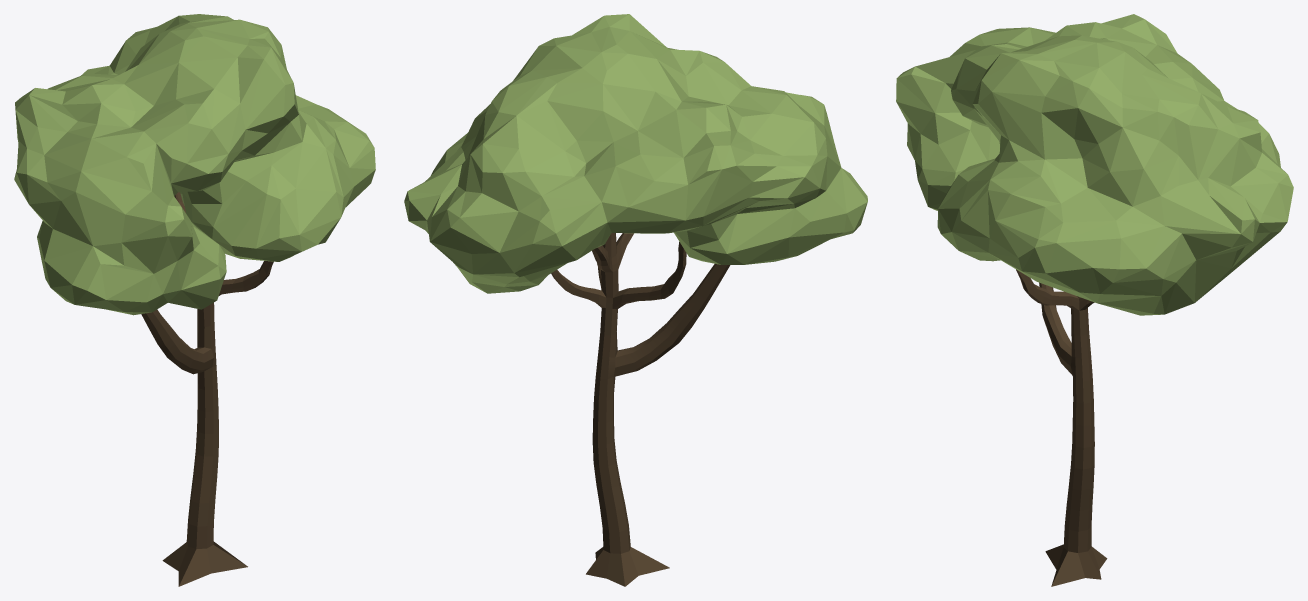
Rendered from NNtree3.fbx.
3 views of the same model, side by side, from view 1: azimuth 30°, elevation 25°; view 2: azimuth 150°, elevation 25°; view 3: azimuth 270°, elevation 25° (orthographic).
Visible parts, largest first — view 1: pCylinder2; view 2: pCylinder2; view 3: pCylinder2.
Boxes of the visible parts, x1=… form: pCylinder2: x1=14, y1=14, x2=375, y2=586; pCylinder2: x1=404, y1=14, x2=867, y2=586; pCylinder2: x1=896, y1=14, x2=1293, y2=586.
Size of the model in its own units: 29 by 40.86 by 27.74.
